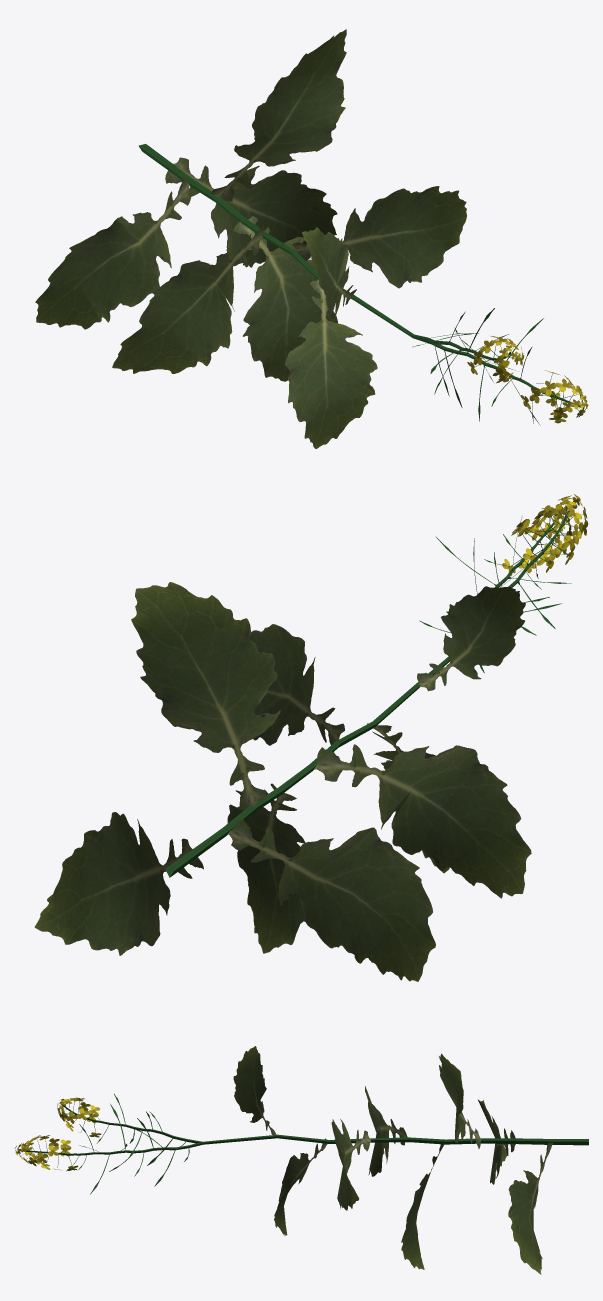
3 renders of one model, top to bottom at view 1: azimuth 30°, elevation 25°; view 2: azimuth 150°, elevation 25°; view 3: azimuth 270°, elevation 25°, orthographic. The views are drawn at different scales.
Visible parts, largest first — view 1: GC22_v2; view 2: GC22_v2; view 3: GC22_v2.
Part boxes in pixels (bbox=[...]): GC22_v2: bbox=[35, 29, 588, 448]; GC22_v2: bbox=[34, 494, 588, 981]; GC22_v2: bbox=[14, 1046, 588, 1274].
Bounding box in the file's own units: 0.5826 × 0.526 × 1.05.
3 materials, 3 textured.
